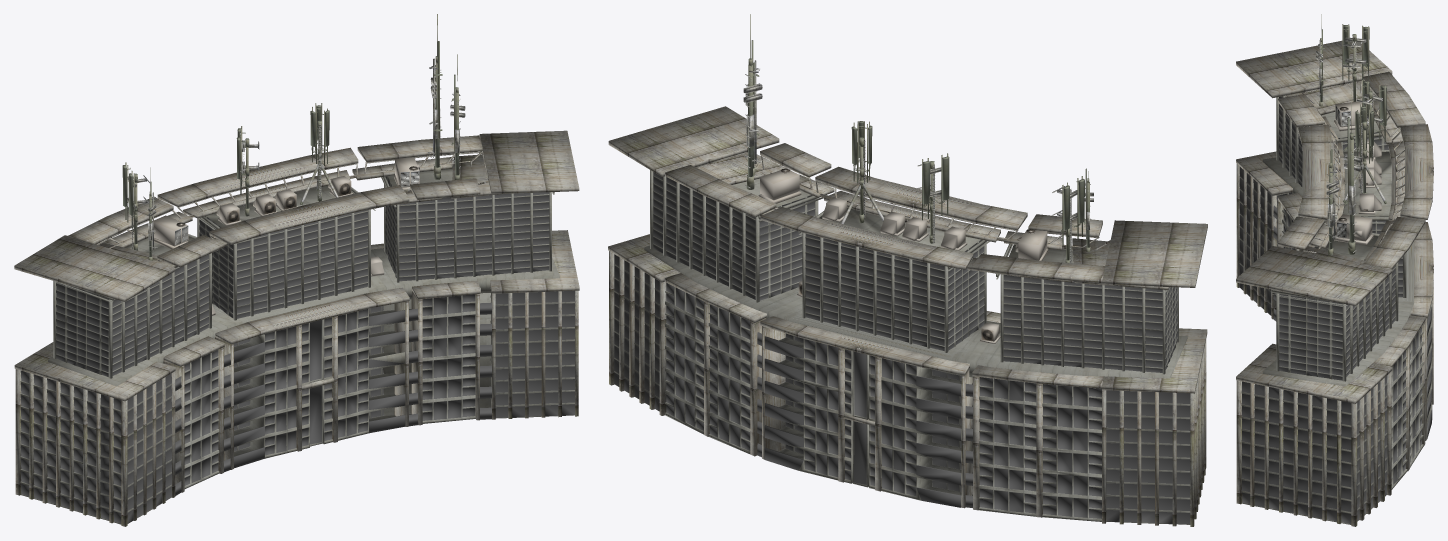
Rendered from Building curve short.glb.
3 views of the same model, side by side, from view 1: azimuth 30°, elevation 25°; view 2: azimuth 150°, elevation 25°; view 3: azimuth 270°, elevation 25° (orthographic). The views are drawn at different scales.
Visible parts, largest first — view 1: Curved Building Short; view 2: Curved Building Short; view 3: Curved Building Short.
Boxes of the visible parts, <box> form: Curved Building Short: <box>14,14,579,526</box>; Curved Building Short: <box>608,14,1207,526</box>; Curved Building Short: <box>1236,14,1433,526</box>.
Bounding box in the file's own units: 55.18 × 36.16 × 17.44.
Materials: 8 (7 with a texture image).
